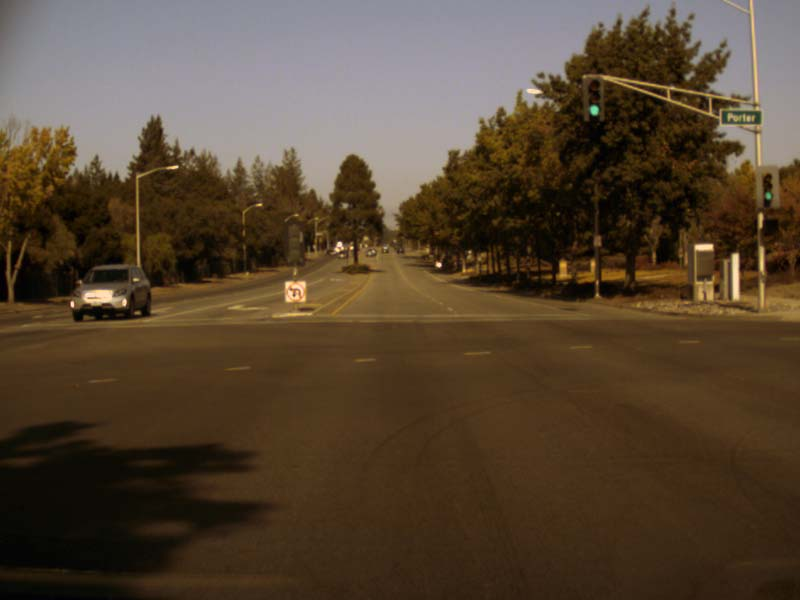Green: (583, 78, 604, 121), (763, 174, 774, 206)
